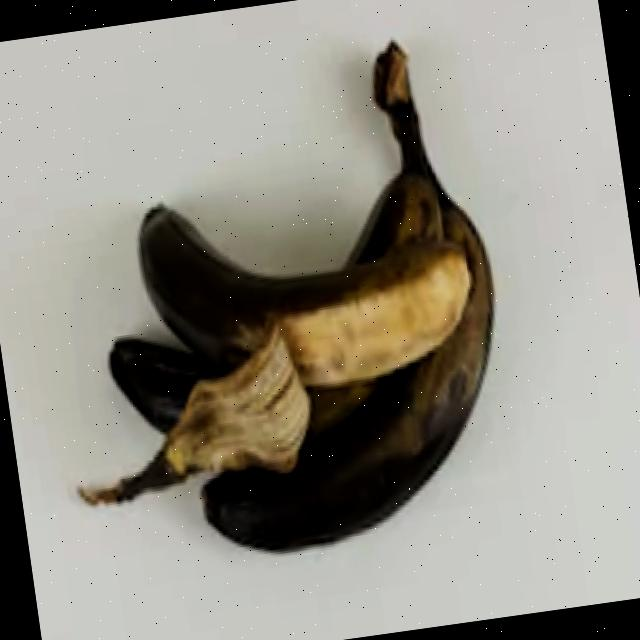rotten banana: (26, 31, 586, 613)
